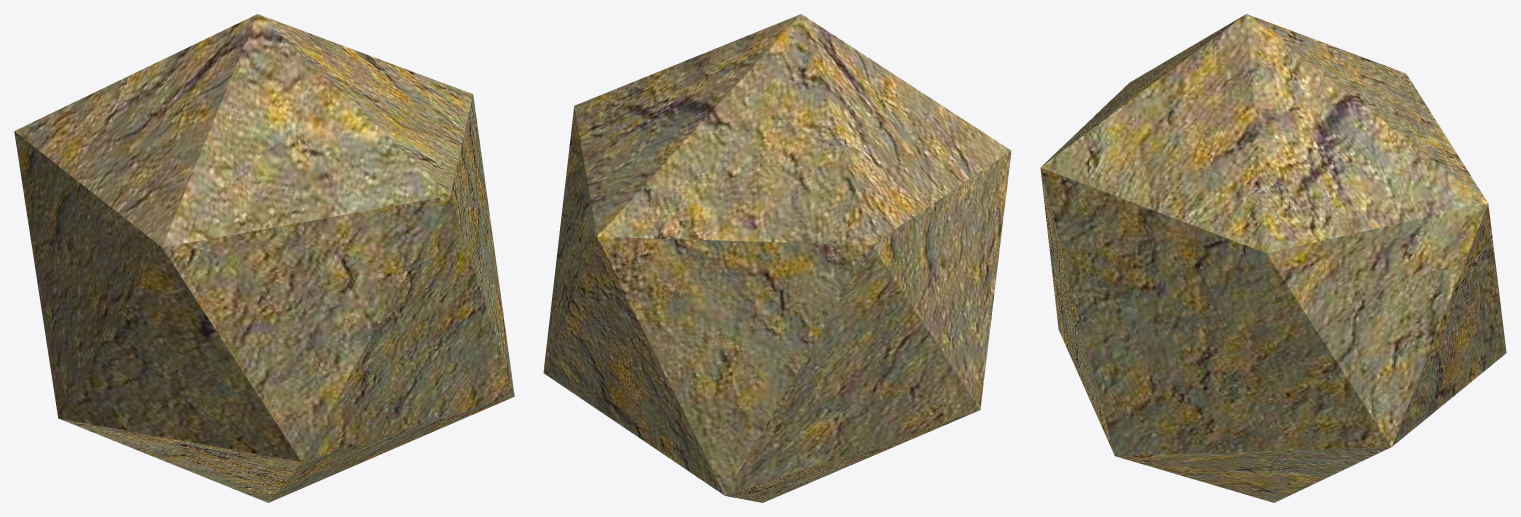
The model's file is rock1.fbx.
3 renders of one model, left to right at view 1: azimuth 30°, elevation 25°; view 2: azimuth 150°, elevation 25°; view 3: azimuth 270°, elevation 25°, orthographic. The views are drawn at different scales.
Visible parts, largest first — view 1: Rock1; view 2: Rock1; view 3: Rock1.
Boxes of the visible parts, box(x1,y1,x2,y2) form: Rock1: box(14, 14, 514, 502); Rock1: box(543, 14, 1011, 502); Rock1: box(1040, 14, 1506, 502).
Size of the model in its own units: 10.89 by 12.55 by 11.11.
